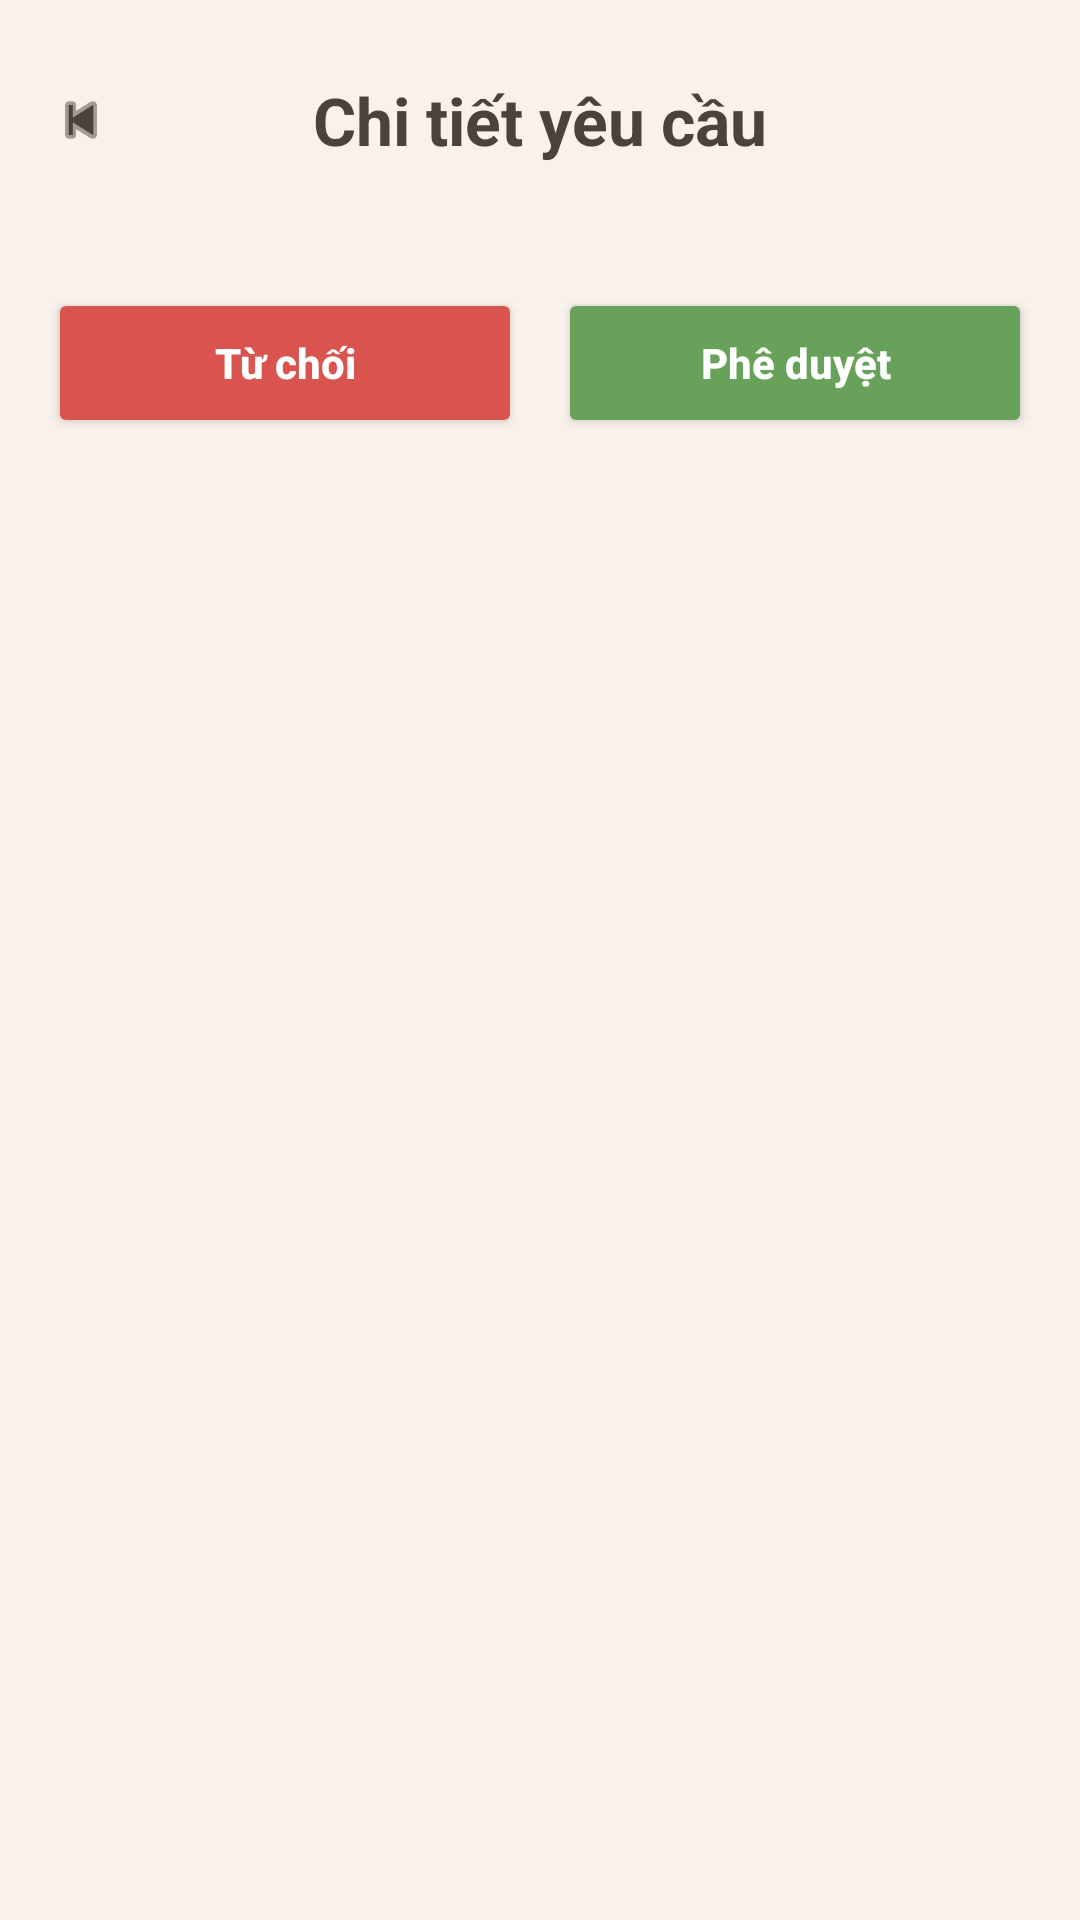

Where to tap for icons on this 1080px×1920px app screen, as [x,y]:
Quay lại: [81,120]
